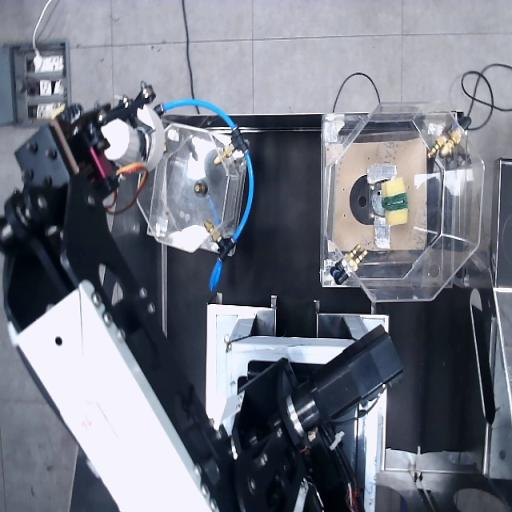cup in rinse station: (102, 98, 162, 169)
